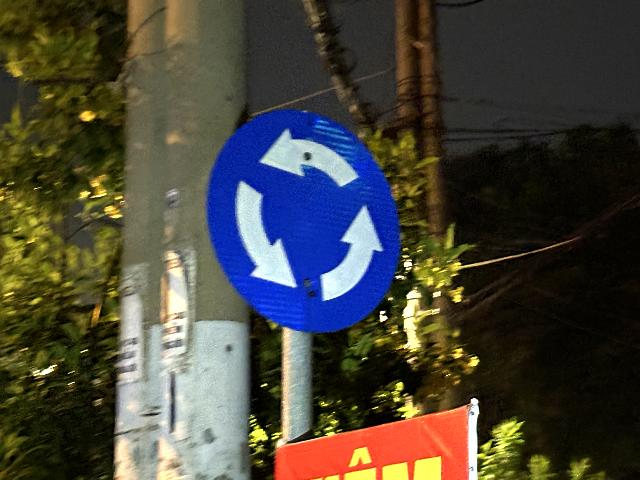noi-giao-nhau-chay-theo-vong-xuyen: (207, 107, 402, 334)
